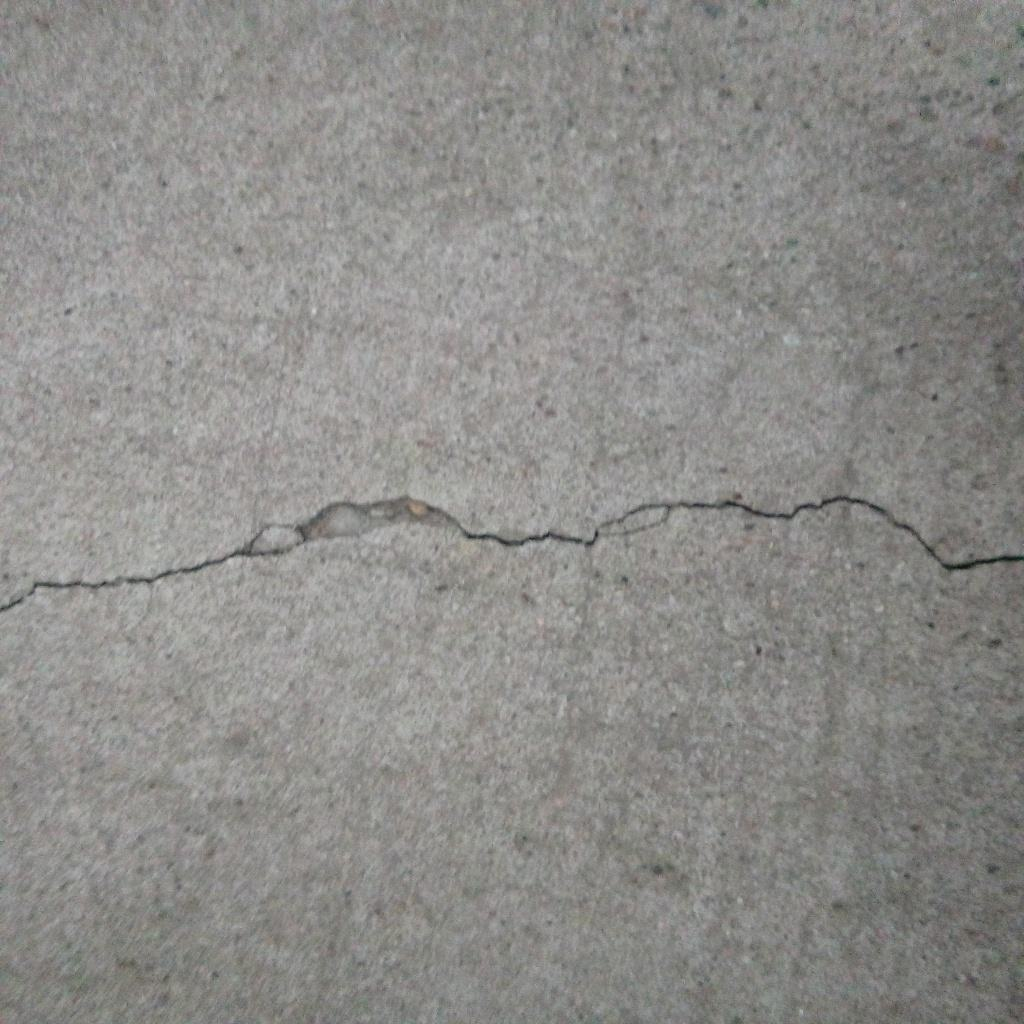Crack: (1, 493, 1024, 616)
